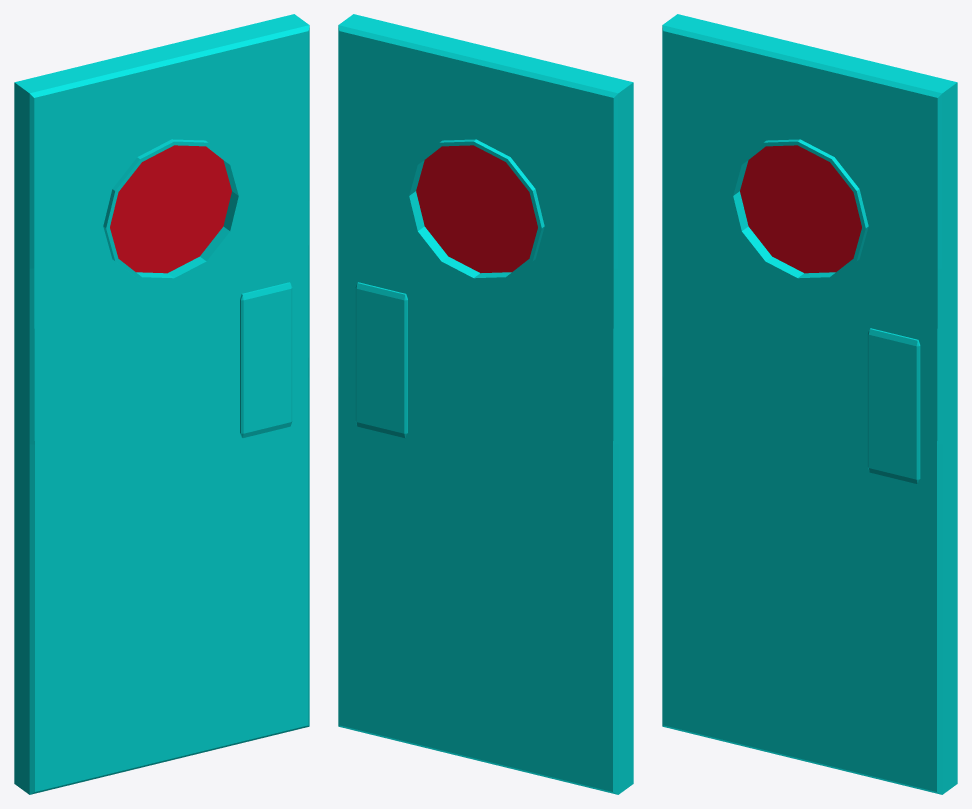
File: DoorWayMorgue 1.fbx
The picture shows the model from 3 angles, left to right: view 1: azimuth 30°, elevation 25°; view 2: azimuth 150°, elevation 25°; view 3: azimuth 330°, elevation 25°; orthographic projection.
Parts seen in each view (by area): view 1: DoorwayMorgue.002; view 2: DoorwayMorgue.002; view 3: DoorwayMorgue.002.
Part boxes in pixels (x1,y1,x2,y2): DoorwayMorgue.002: [14, 14, 309, 794]; DoorwayMorgue.002: [338, 14, 633, 794]; DoorwayMorgue.002: [662, 14, 957, 794].
Size of the model in its own units: 203 by 84.83 by 12.95.
